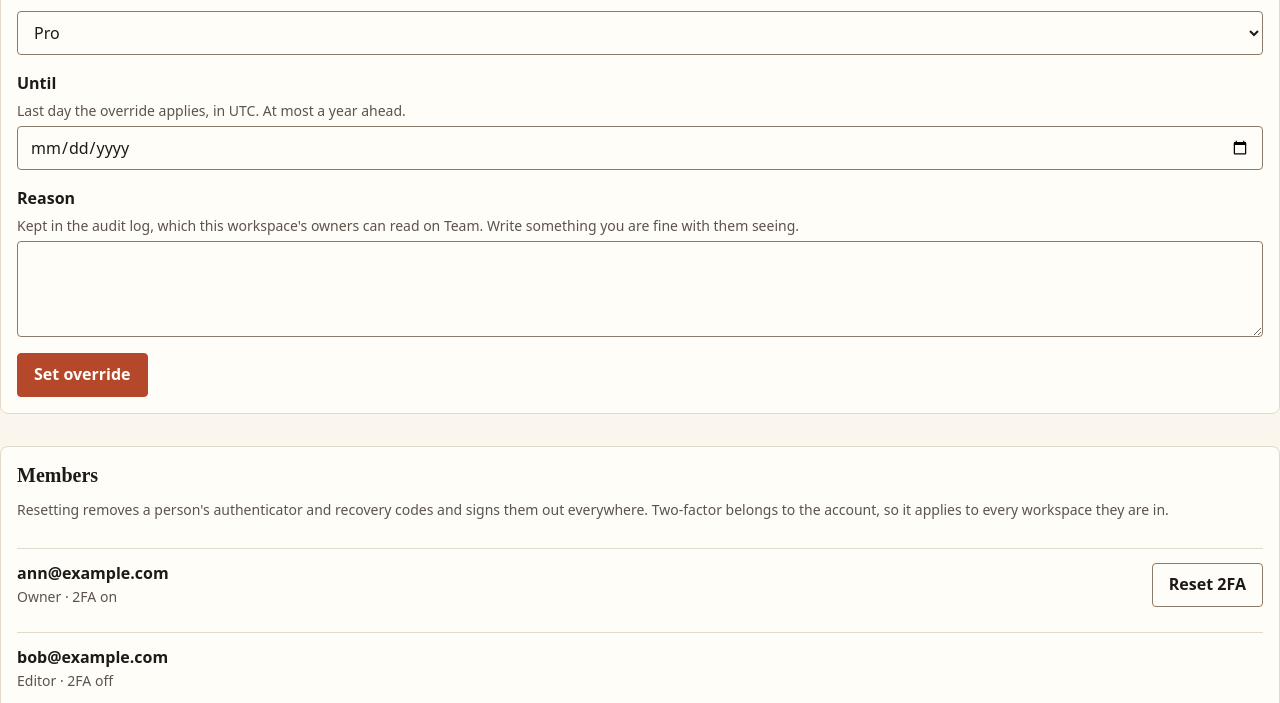
Scenario: OpsWorkspaceManager › asks before resetting 2FA and offers the reset only to members who have it
(page scrolled)
What coordinates should you click on to do the following:
click the button with aria-label "Reset 2FA for ann@example.com"
I would click on:
 (1207, 585)
Its box is left=1152, top=563, right=1263, bottom=607.
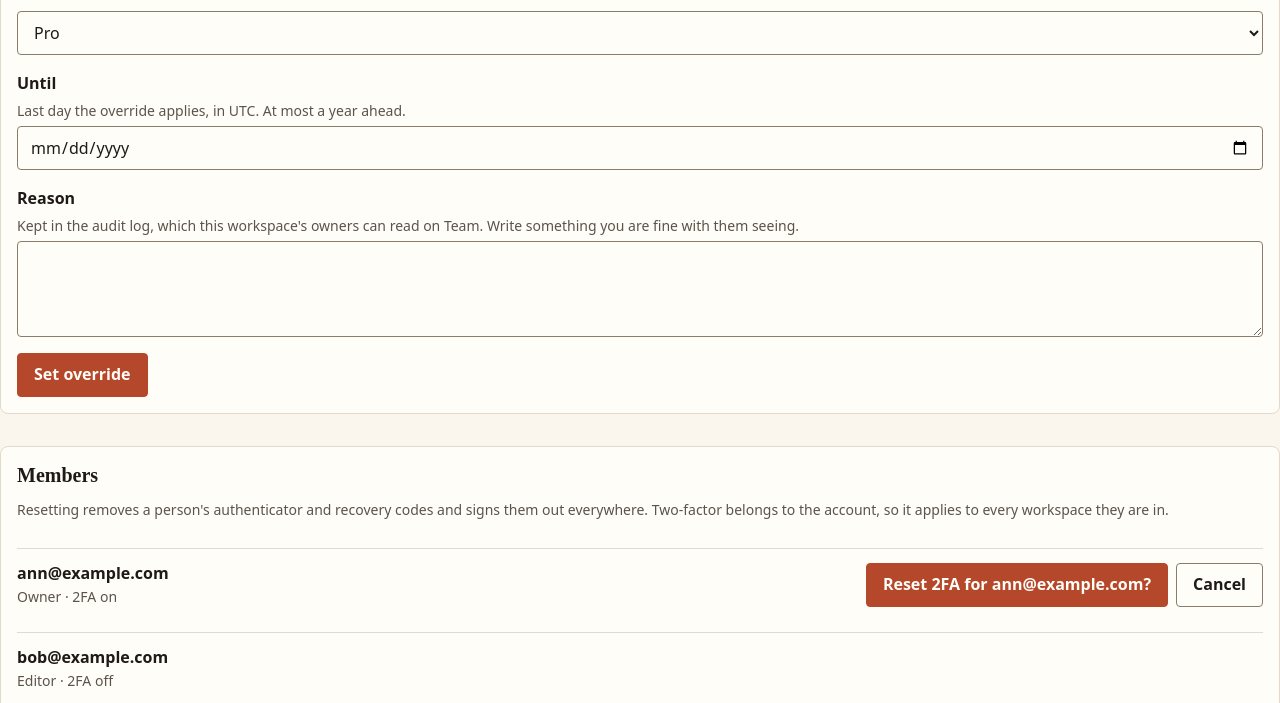
What coordinates should you click on to do the following:
click the button "Reset 2FA for ann@example.com?"
I would click on:
 (1017, 585)
Its box is left=866, top=563, right=1168, bottom=607.
(page scrolled)
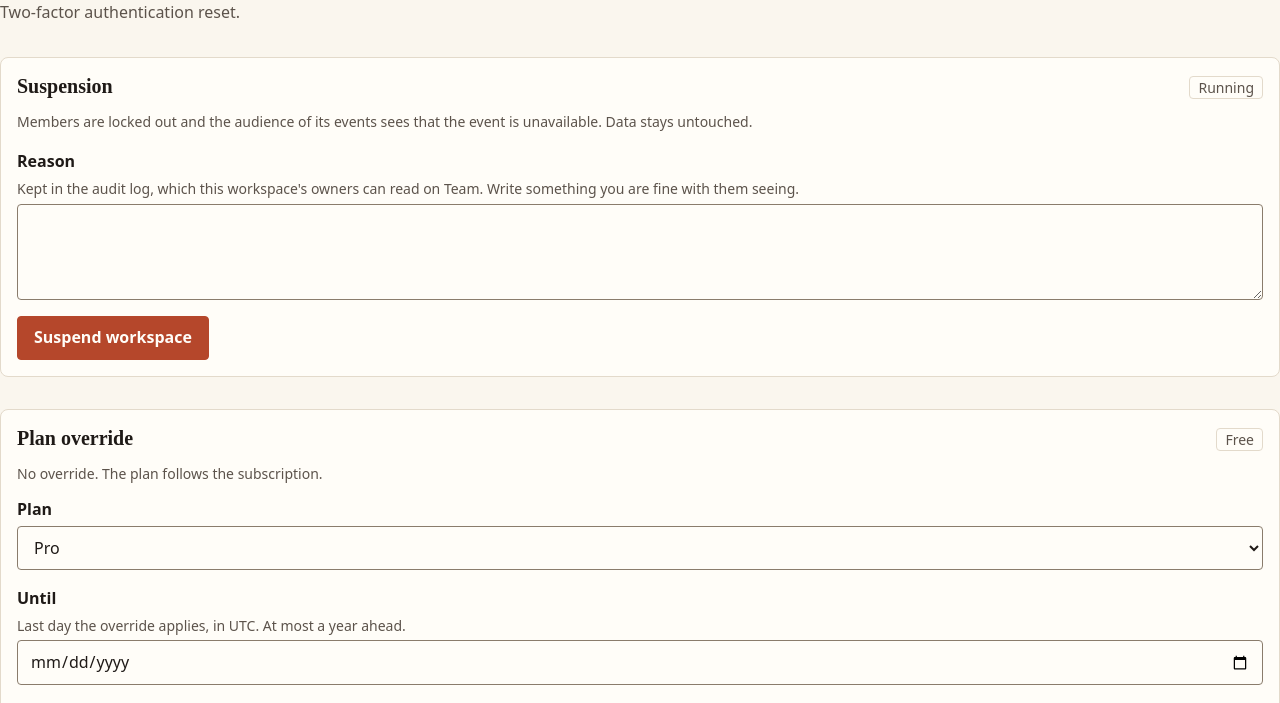
Result: the message reads "Two-factor authentication reset." at left=0, top=1, right=240, bottom=23
Result: the button "Reset 2FA for" is gone
